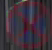No Stopping: (7, 0, 49, 49)
